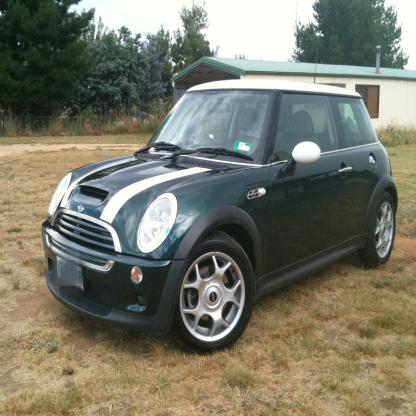Car: (41, 73, 400, 349)
